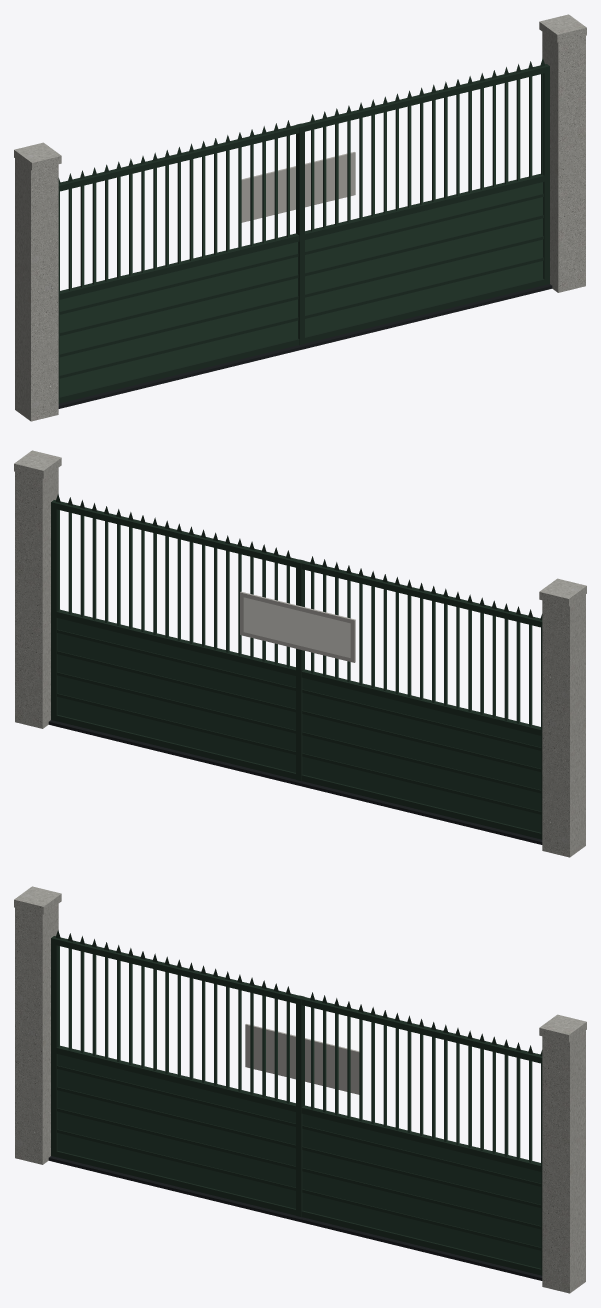
The model's file is gg_lane_gate.glb.
The picture shows the model from 3 angles, top to bottom: view 1: azimuth 30°, elevation 25°; view 2: azimuth 150°, elevation 25°; view 3: azimuth 330°, elevation 25°; orthographic projection.
Parts seen in each view (by area): view 1: glg_misc, glg_post; view 2: glg_misc, glg_post, PLATE_FACE_GG_LANE; view 3: glg_misc, glg_post.
Boxes of the visible parts, x1,y1,x2,y2 form: glg_misc: (58, 58, 552, 408); glg_post: (14, 14, 586, 421); glg_misc: (48, 494, 542, 844); glg_post: (14, 450, 586, 857); PLATE_FACE_GG_LANE: (243, 597, 350, 657); glg_misc: (48, 930, 542, 1280); glg_post: (14, 886, 586, 1293).
Size of the model in its own units: 6 by 2.68 by 0.34.
3 materials, 1 textured.
